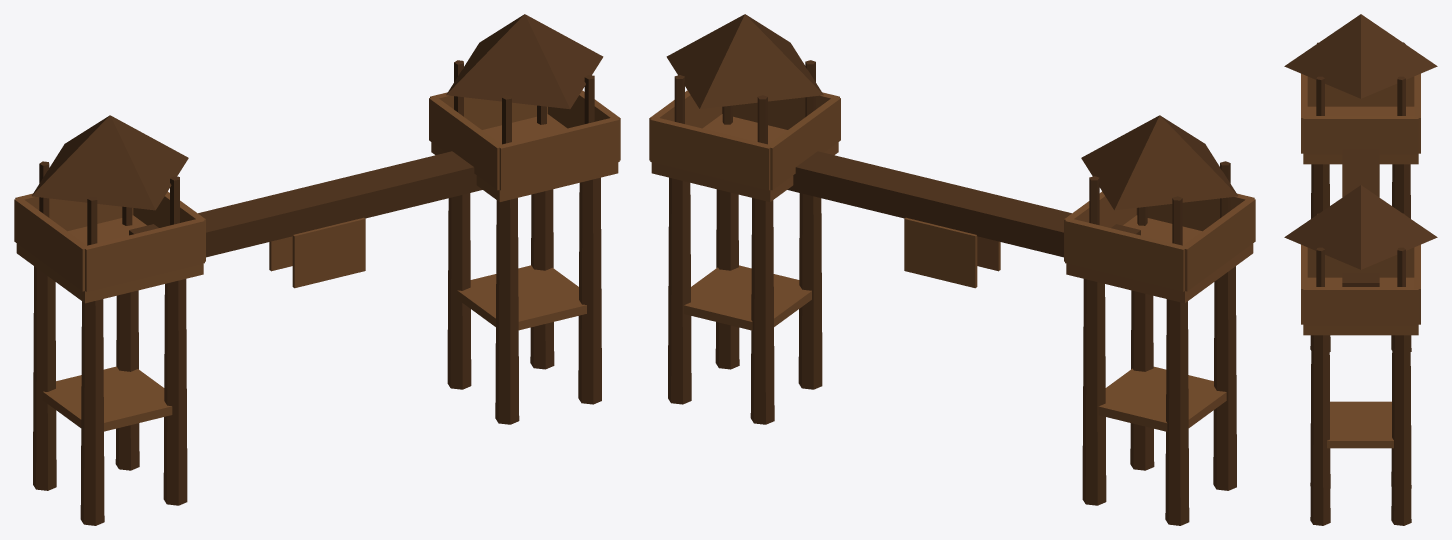
File: human_gate_broken.glb
3 renders of one model, left to right at view 1: azimuth 30°, elevation 25°; view 2: azimuth 150°, elevation 25°; view 3: azimuth 270°, elevation 25°, orthographic. The views are drawn at different scales.
Visible parts, largest first — view 1: human_gate_piece1, human_gate_piece5, human_gate_piece8, human_gate_piece4, human_gate_piece0, human_gate_piece6, human_gate_piece9, human_gate_piece7, human_gate_piece3, human_gate_piece10, human_gate_piece2, human_gate_piece11 (+1 smaller); view 2: human_gate_piece4, human_gate_piece1, human_gate_piece6, human_gate_piece8, human_gate_piece3, human_gate_piece5, human_gate_piece0, human_gate_piece9, human_gate_piece11, human_gate_piece7, human_gate_piece10, human_gate_piece13 (+1 smaller); view 3: human_gate_piece1, human_gate_piece5, human_gate_piece6, human_gate_piece0, human_gate_piece9, human_gate_piece4, human_gate_piece7, human_gate_piece8, human_gate_piece10, human_gate_piece11, human_gate_piece3.
Boxes of the visible parts, x1,y1,x2,y2 form: human_gate_piece1: (51, 115, 214, 372); human_gate_piece5: (508, 14, 620, 292); human_gate_piece8: (14, 224, 183, 504); human_gate_piece4: (265, 31, 498, 232); human_gate_piece0: (14, 190, 126, 463); human_gate_piece6: (463, 103, 601, 404); human_gate_piece9: (445, 21, 523, 292); human_gate_piece7: (168, 197, 346, 505); human_gate_piece3: (22, 161, 186, 424); human_gate_piece10: (485, 100, 601, 373); human_gate_piece2: (263, 197, 519, 424); human_gate_piece11: (444, 193, 499, 389); human_gate_piece4: (696, 43, 982, 278); human_gate_piece1: (1035, 115, 1238, 335); human_gate_piece6: (649, 113, 812, 421); human_gate_piece8: (1082, 252, 1218, 525); human_gate_piece3: (1082, 172, 1229, 462); human_gate_piece5: (657, 14, 805, 236); human_gate_piece0: (1185, 189, 1255, 419); human_gate_piece9: (697, 21, 840, 254); human_gate_piece11: (739, 185, 821, 424); human_gate_piece7: (941, 194, 1140, 469); human_gate_piece10: (681, 128, 821, 347); human_gate_piece13: (1188, 281, 1236, 490); human_gate_piece1: (1284, 14, 1437, 218); human_gate_piece5: (1284, 185, 1429, 432); human_gate_piece6: (1310, 278, 1420, 525); human_gate_piece0: (1301, 73, 1409, 218); human_gate_piece9: (1301, 204, 1429, 286); human_gate_piece4: (1375, 192, 1437, 286); human_gate_piece7: (1310, 162, 1379, 351); human_gate_piece8: (1366, 79, 1414, 351); human_gate_piece10: (1310, 264, 1420, 440); human_gate_piece11: (1341, 335, 1411, 488); human_gate_piece3: (1392, 42, 1420, 218).
Size of the model in its own units: 4.83 by 3.05 by 1.33.
